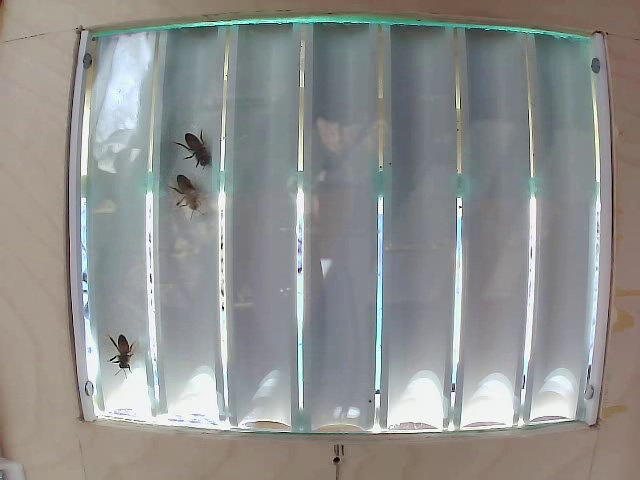bee: (176, 123, 223, 182), (102, 323, 148, 380), (165, 165, 210, 223)
